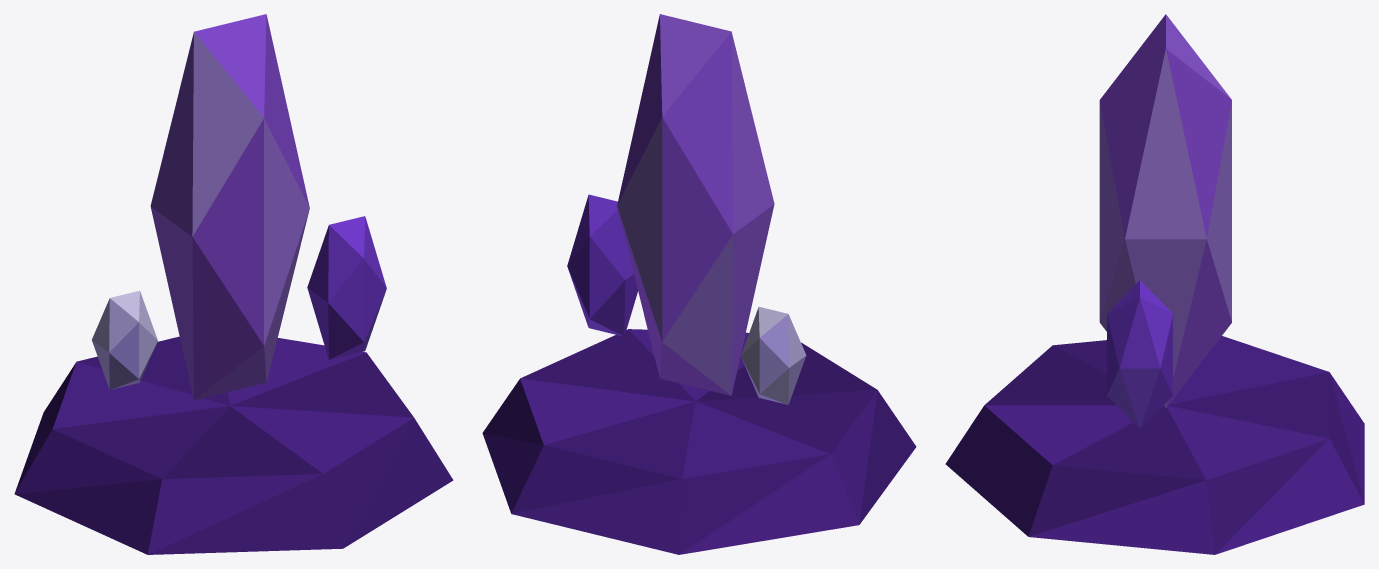
File: crystal.glb
3 renders of one model, left to right at view 1: azimuth 30°, elevation 25°; view 2: azimuth 150°, elevation 25°; view 3: azimuth 270°, elevation 25°, orthographic. The views are drawn at different scales.
Bounding box in the file's own units: 1.66 × 1.84 × 1.62.
